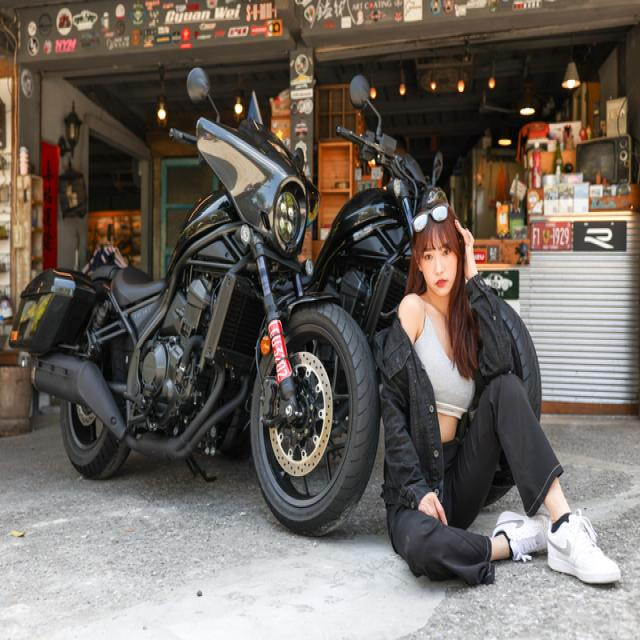Bike: (8, 68, 382, 539)
